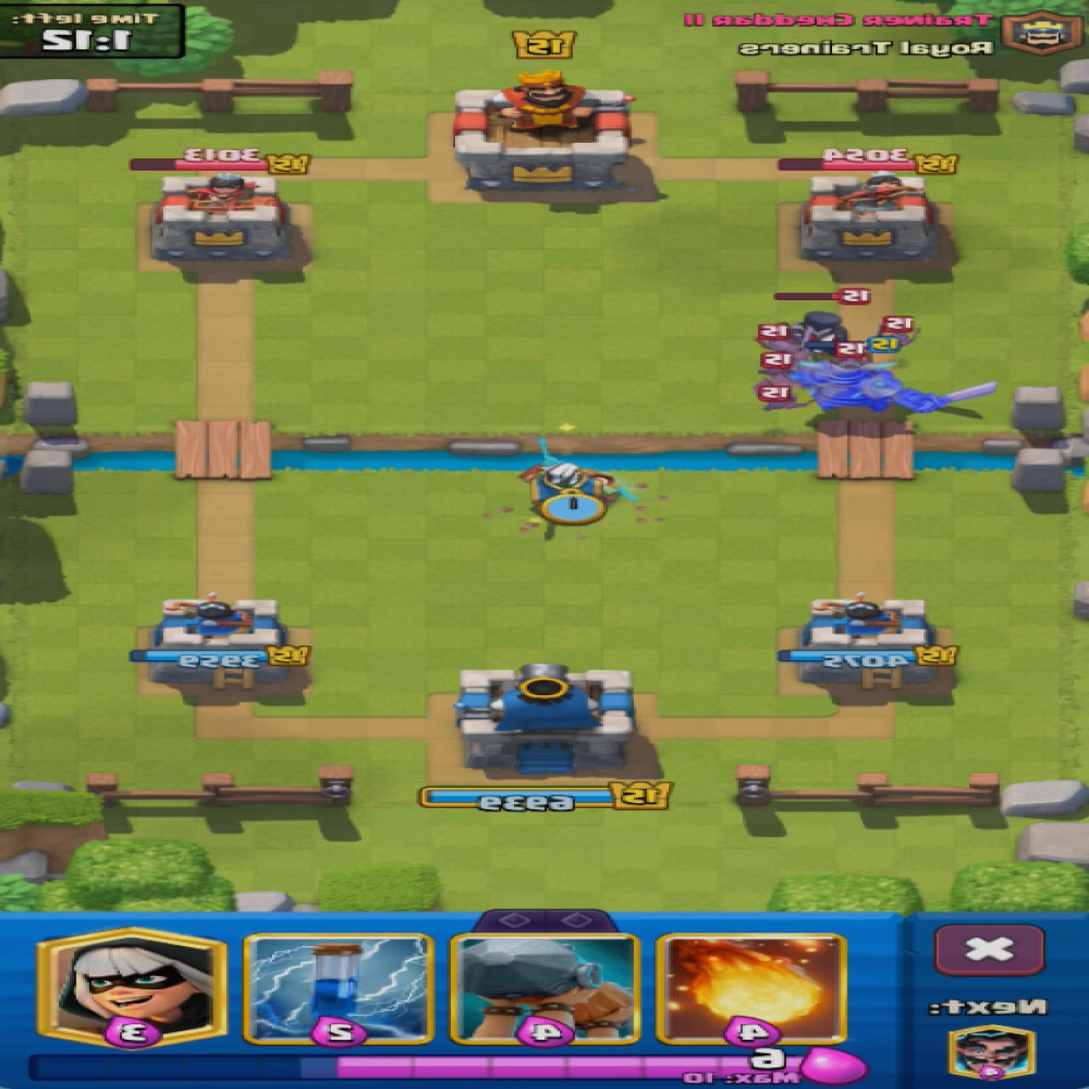Enemy-Bat: (758, 325, 808, 366), (756, 375, 799, 410), (762, 352, 795, 376), (882, 316, 915, 339), (839, 341, 865, 368)
Enemy-KingTower: (455, 72, 632, 193)
Enemy-NightWitch: (795, 313, 847, 340)
Enemy-PrincessTower: (802, 171, 939, 261), (155, 175, 290, 262)
